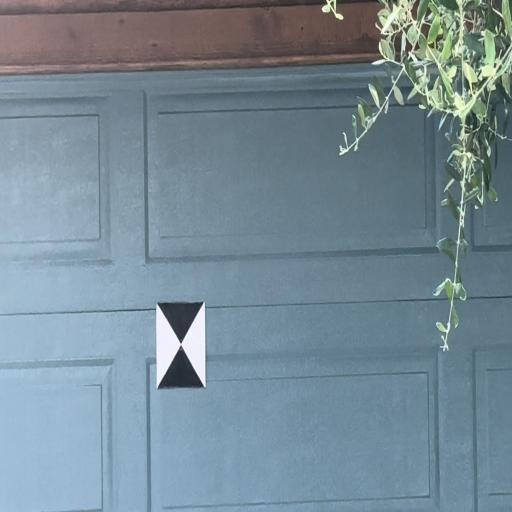target: (157, 302, 206, 388)
